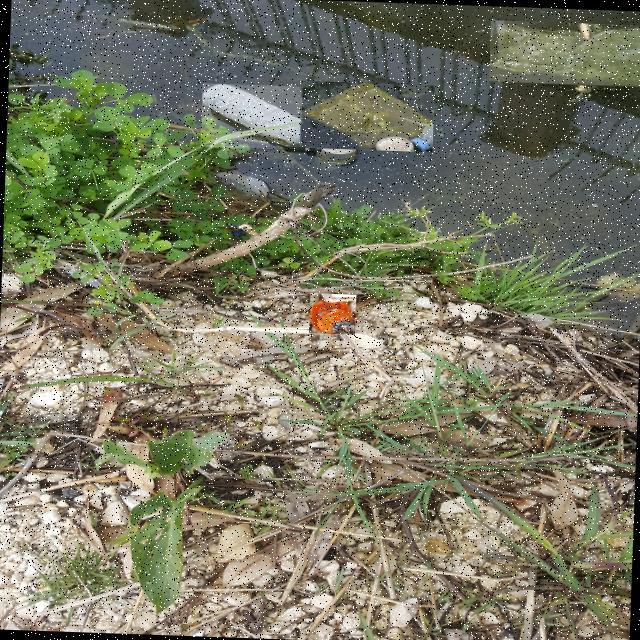Clear plastic bottle: (202, 85, 321, 150)
Drink can: (316, 137, 357, 162)
Other plastic: (489, 26, 640, 86), (302, 83, 432, 149), (311, 293, 355, 333)
Other plastic bottle: (226, 225, 247, 236)
Plastic bottle cap: (306, 137, 321, 151)
